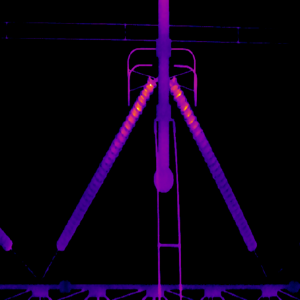insulator: (56, 74, 157, 251), (167, 75, 257, 251)
